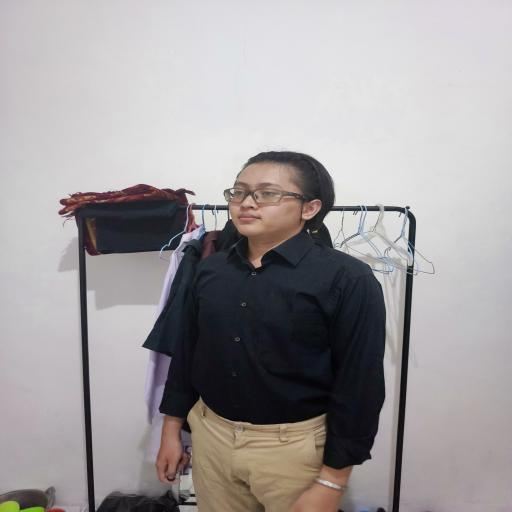celana_salah: (179, 401, 335, 512)
kemeja_salah: (158, 253, 392, 425)
